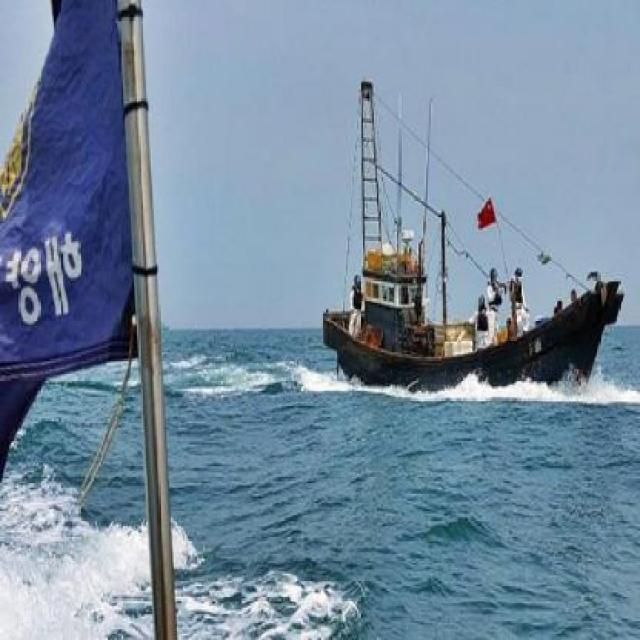Ship: (323, 68, 634, 407)
